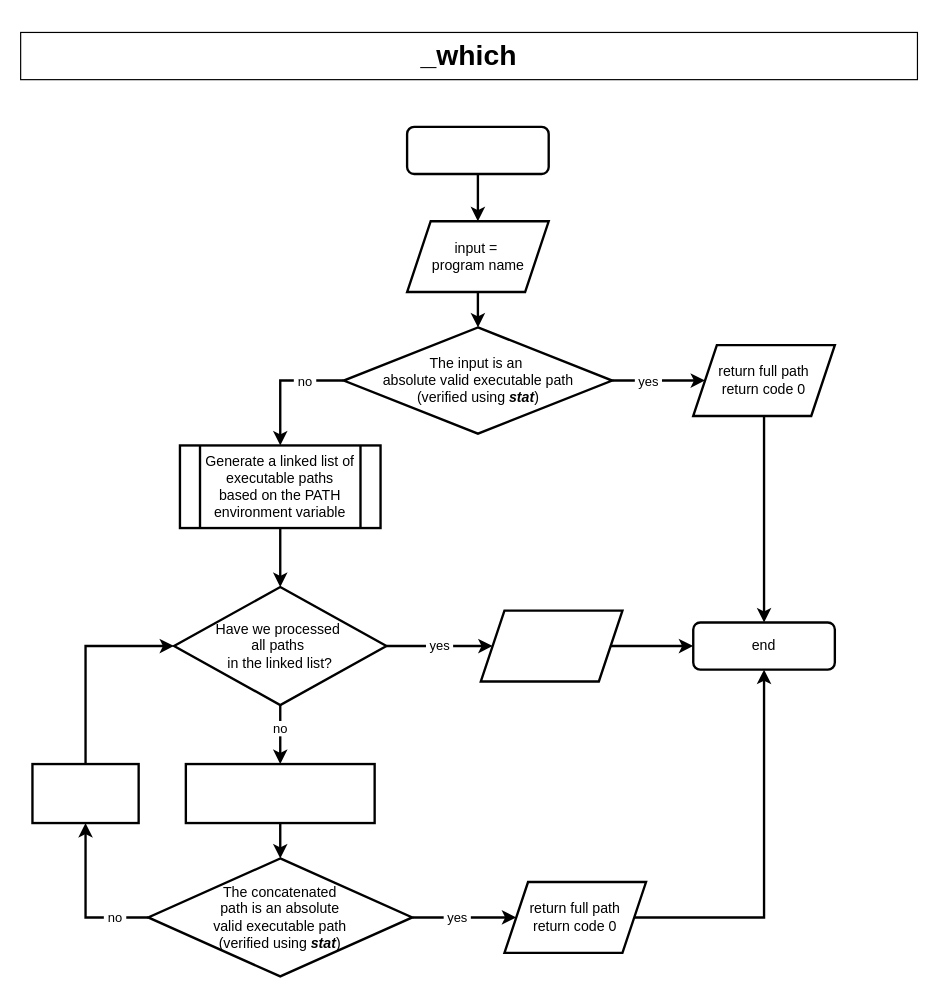
Image size: 938x998. Some labels were removed from this diagram. The shapes that lost their labels are listed below. From the top down, each one's box as (x1, y1, x2, y2) in pixels, then its label:
(405, 125, 549, 175): start
(479, 609, 623, 682): return 1
(31, 762, 139, 824): next node on the linked list
(184, 762, 375, 824): concatenate the program name with the path (ex : /bin + / + ls = /bin/ls)
